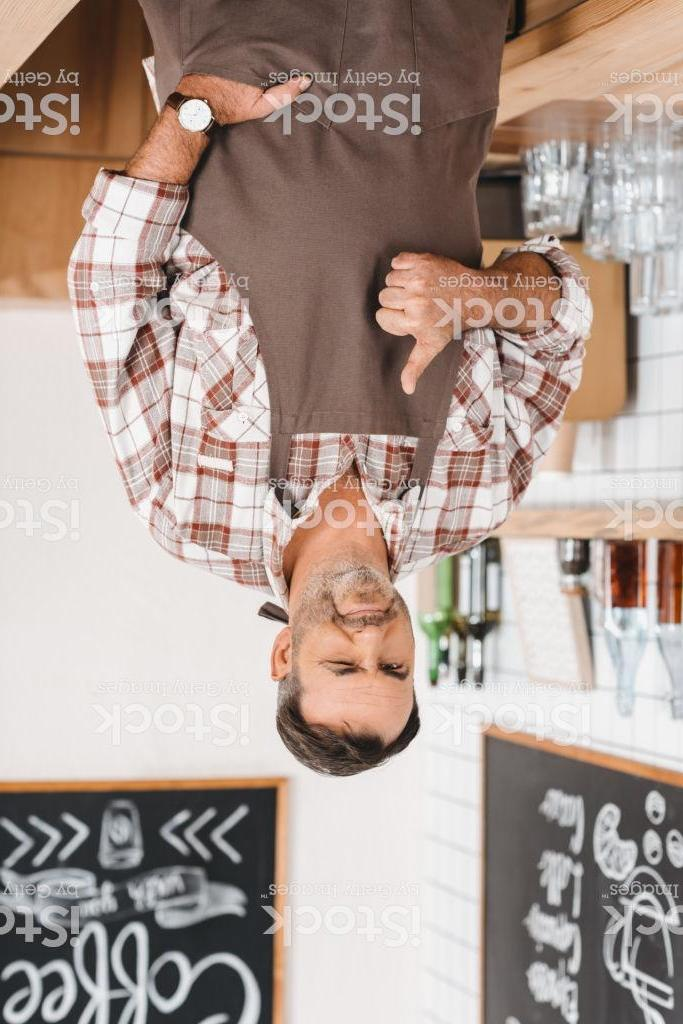thumbsdown: (373, 250, 460, 396)
